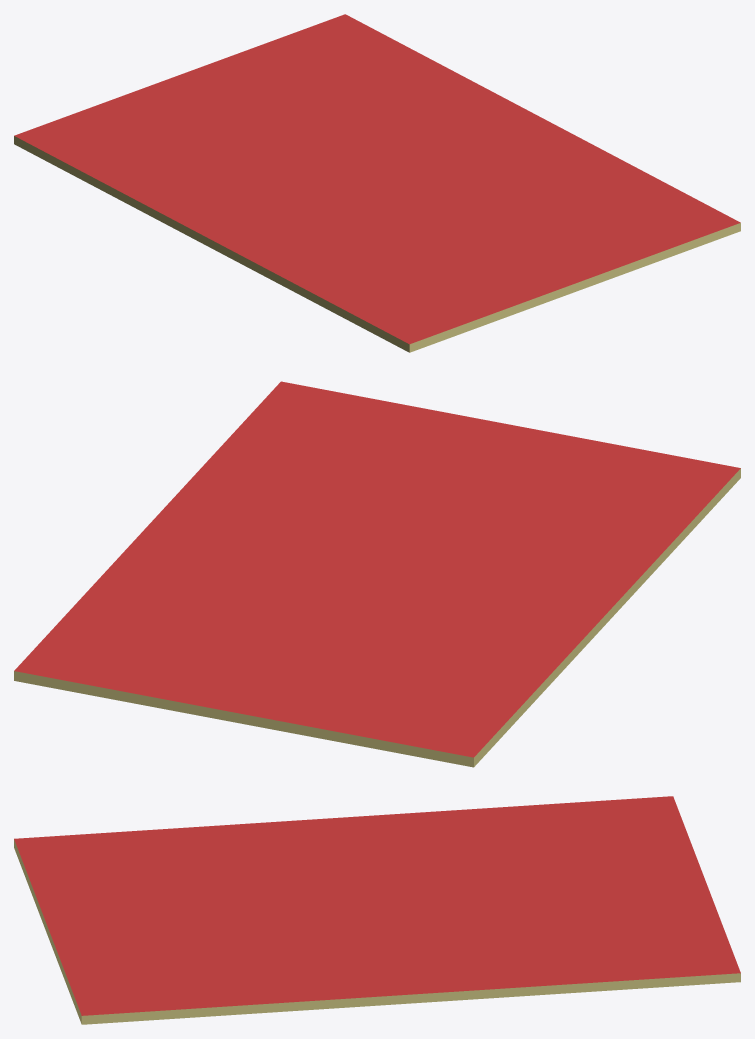
The picture shows the model from 3 angles, top to bottom: view 1: azimuth 30°, elevation 25°; view 2: azimuth 150°, elevation 25°; view 3: azimuth 270°, elevation 25°; orthographic projection. The views are drawn at different scales.
Size of the model in its own units: 5.52 by 7.38 by 0.211.
